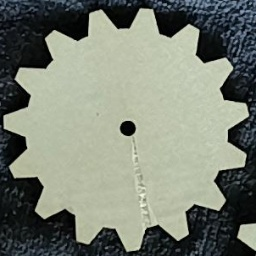Crack: (127, 134, 159, 230)
